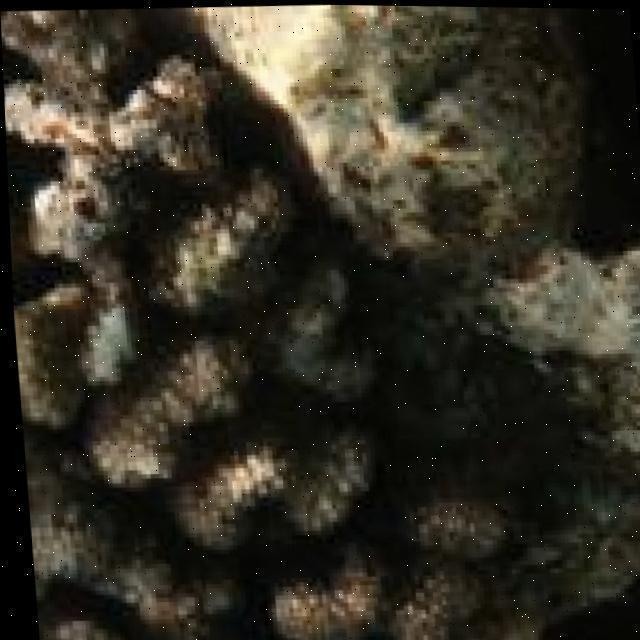Dead Coral: (3, 151, 629, 637)
